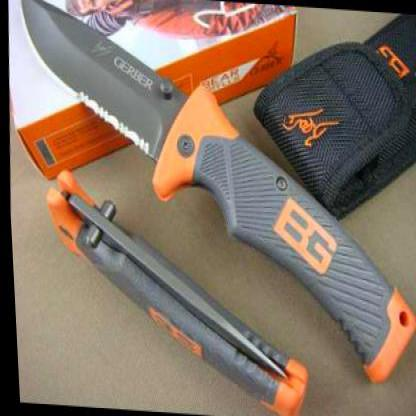knife: (11, 0, 189, 163)
